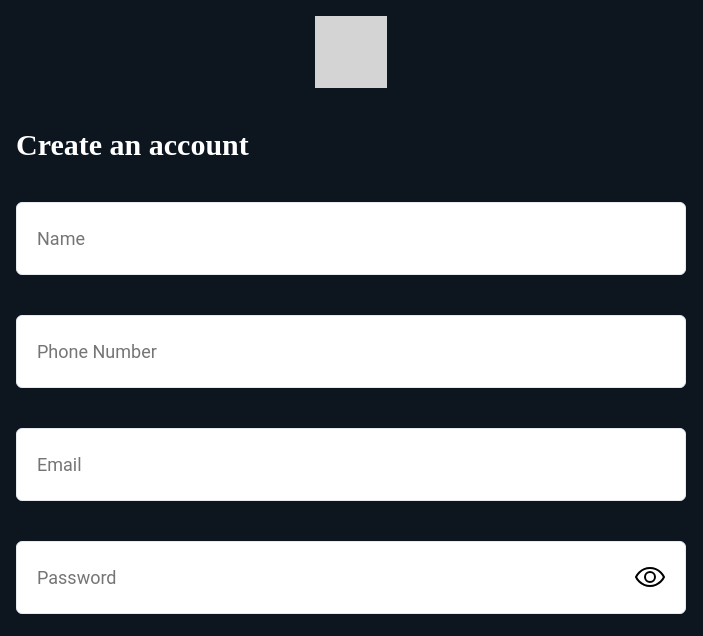
it: SignUp page testing › type something in inputs
Step 1. Type "darya" into the field with placeholder "Name" → {"x": 351, "y": 239}, box [16,202,686,275]
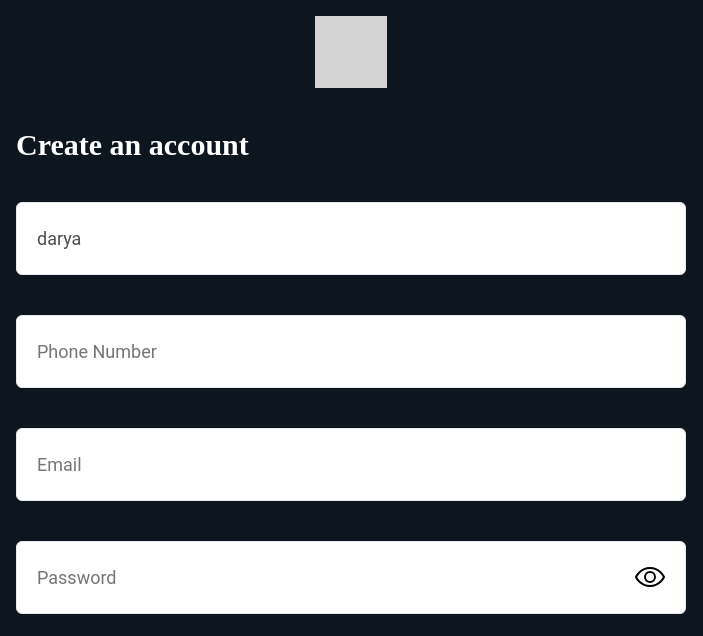
Step 2. Type "wrong data" into the field with placeholder "Phone Number" → {"x": 351, "y": 352}, box [16,315,686,388]
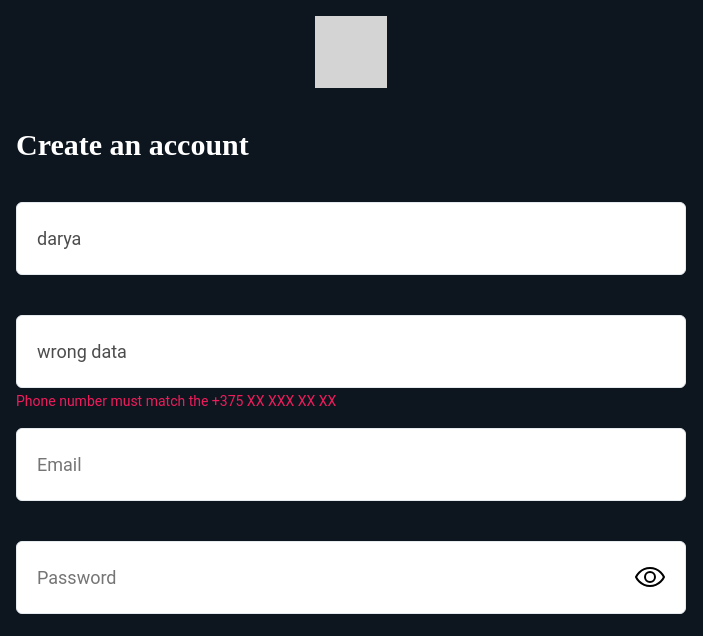
Result: the text "Phone number must match the +375 XX XXX XX XX" is shown at [16,388,336,409]
Step 3. Type "wrong data" into the field with placeholder "Email" → {"x": 351, "y": 465}, box [16,428,686,501]
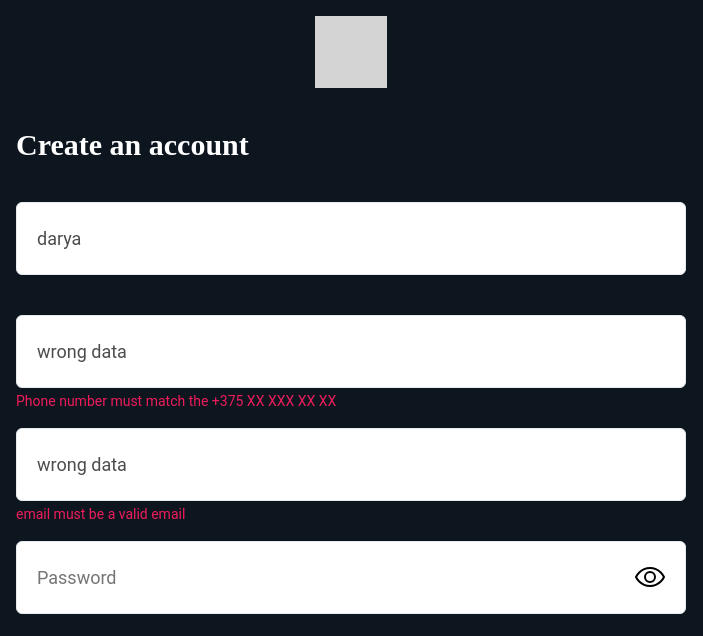
Result: the text "email must be a valid email" is shown at [16,501,185,522]
Step 4. Type "11" into the password field with placeholder "Password" → {"x": 351, "y": 578}, box [16,541,686,614]
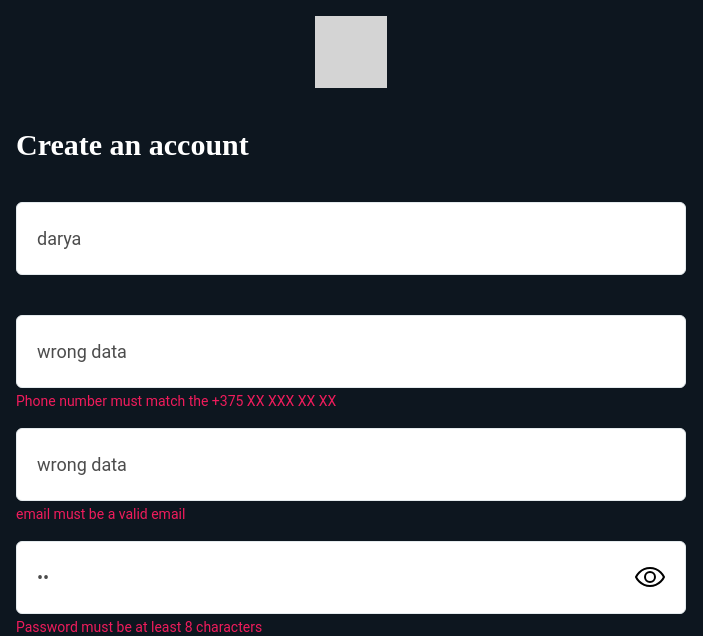
Result: the text "Password must be at least 8 characters" is shown at [16,614,262,635]
Step 5. Type "12121212" into the password field → {"x": 351, "y": 578}, box [16,541,686,614]
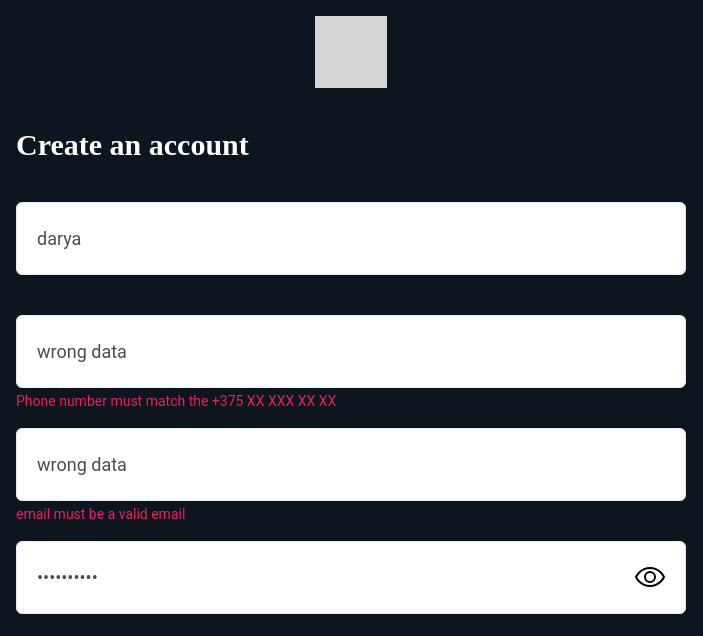
Result: the text "Password must be at least 8 characters" is gone
